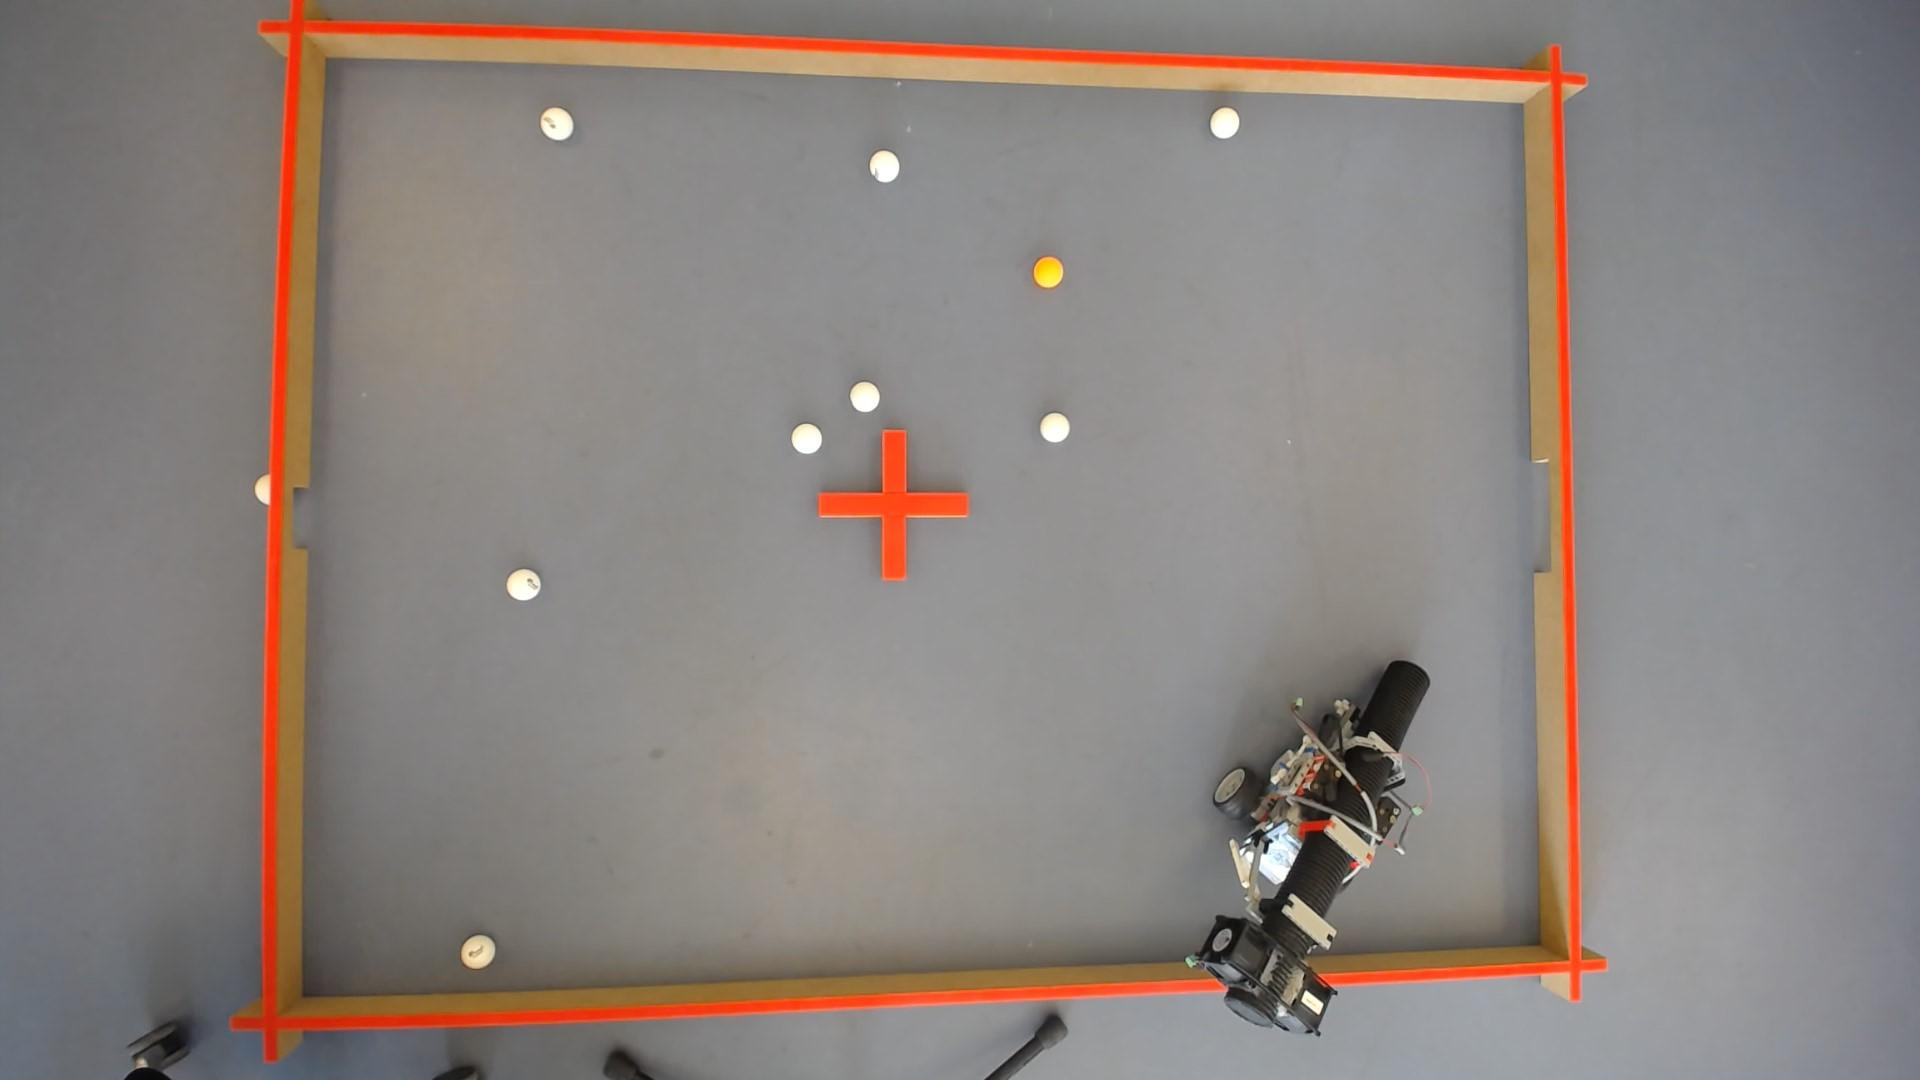orange: (1034, 255, 1064, 286)
robot: (1188, 661, 1432, 1034)
white: (538, 104, 574, 138), (459, 936, 495, 969), (505, 567, 541, 600), (869, 148, 899, 179), (1040, 411, 1071, 442), (793, 422, 822, 454), (851, 380, 880, 410), (1212, 105, 1241, 136)
